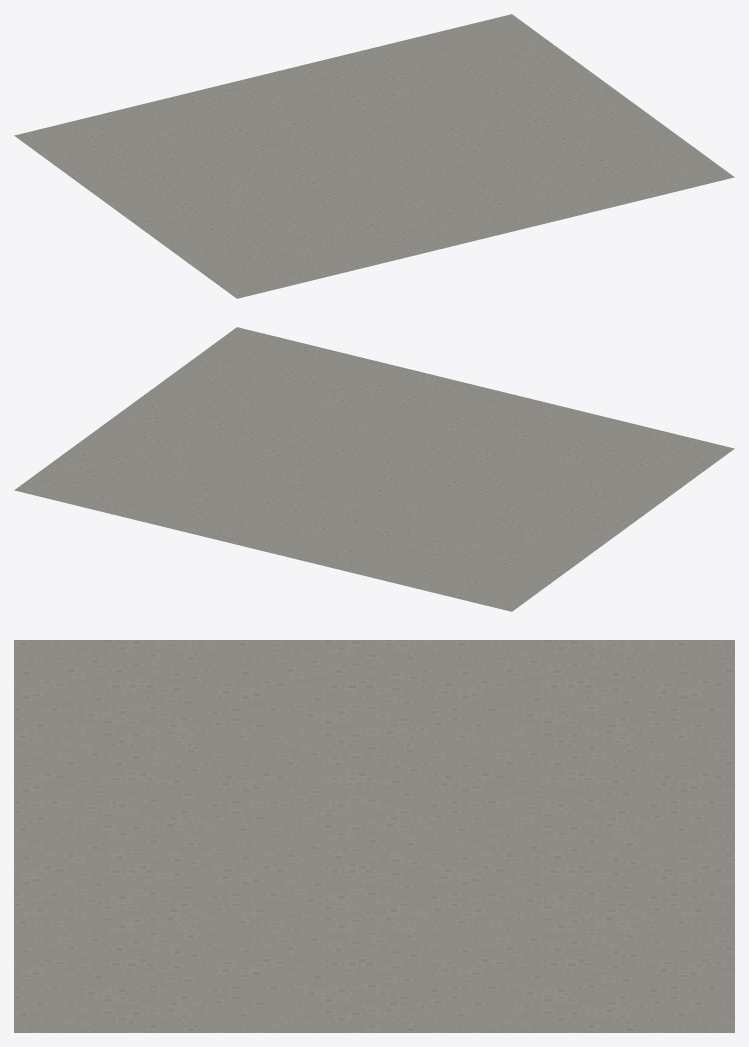
File: kd_stage_135c43_4_19_bounded_piece_0.glb
The picture shows the model from 3 angles, top to bottom: view 1: azimuth 30°, elevation 25°; view 2: azimuth 150°, elevation 25°; view 3: azimuth 270°, elevation 25°; orthographic projection. The views are drawn at different scales.
Parts seen in each view (by area): view 1: kd_stage_135c43_4_19_bounded_piece_0; view 2: kd_stage_135c43_4_19_bounded_piece_0; view 3: kd_stage_135c43_4_19_bounded_piece_0.
Boxes of the visible parts, bbox=[...] form: kd_stage_135c43_4_19_bounded_piece_0: bbox=[14, 14, 734, 298]; kd_stage_135c43_4_19_bounded_piece_0: bbox=[14, 327, 734, 611]; kd_stage_135c43_4_19_bounded_piece_0: bbox=[14, 640, 734, 1032].
Bounding box in the file's own units: 1.54 × 0 × 1.19.
Materials: 1 (1 with a texture image).
